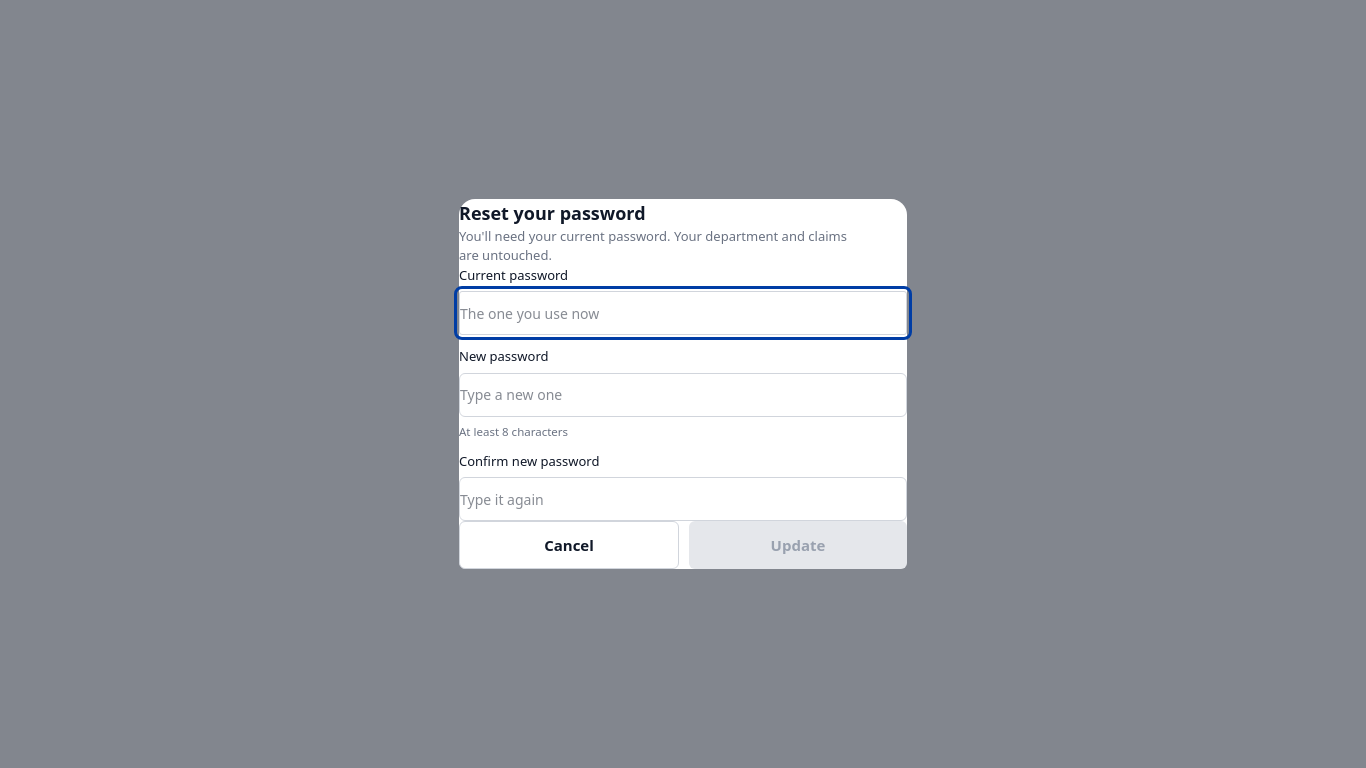
Scenario: password sheet › blocks submit while the confirmation does not match
The width and height of the screenshot is (1366, 768).
In the password field labelled "Current password": (683, 313) [459, 291, 907, 335], type "oldpassword"
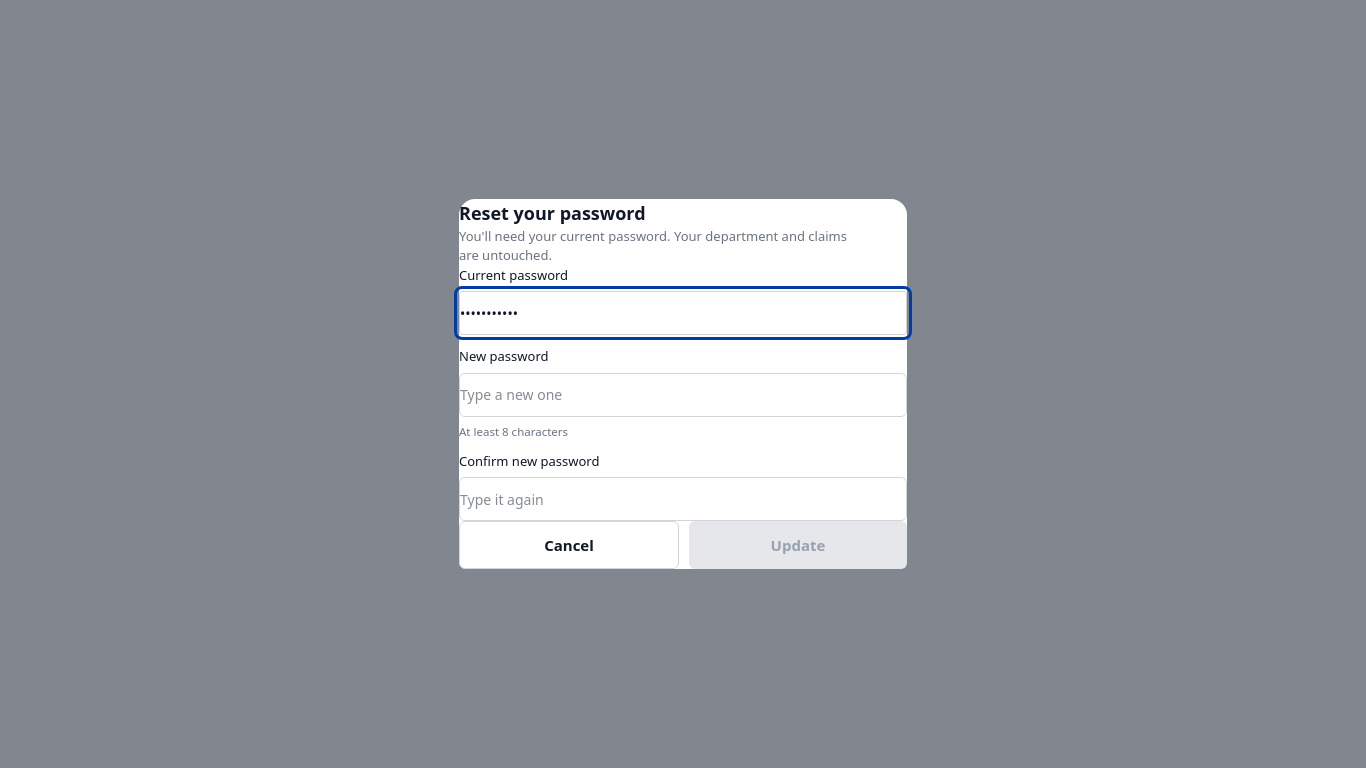
In the password field labelled "New password": (683, 395) [459, 373, 907, 417], type "longenough1"
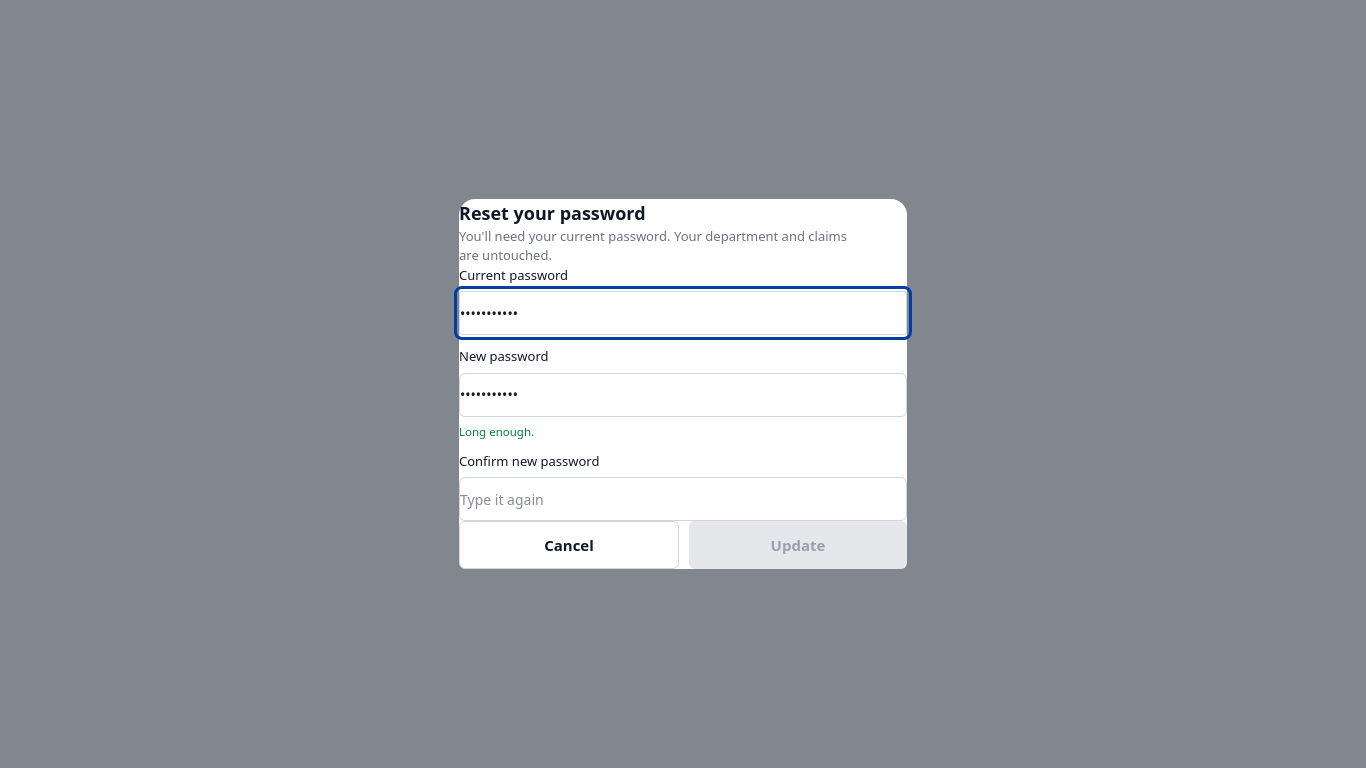
In the password field labelled "Confirm new password": (683, 499) [459, 477, 907, 521], type "longenough2"
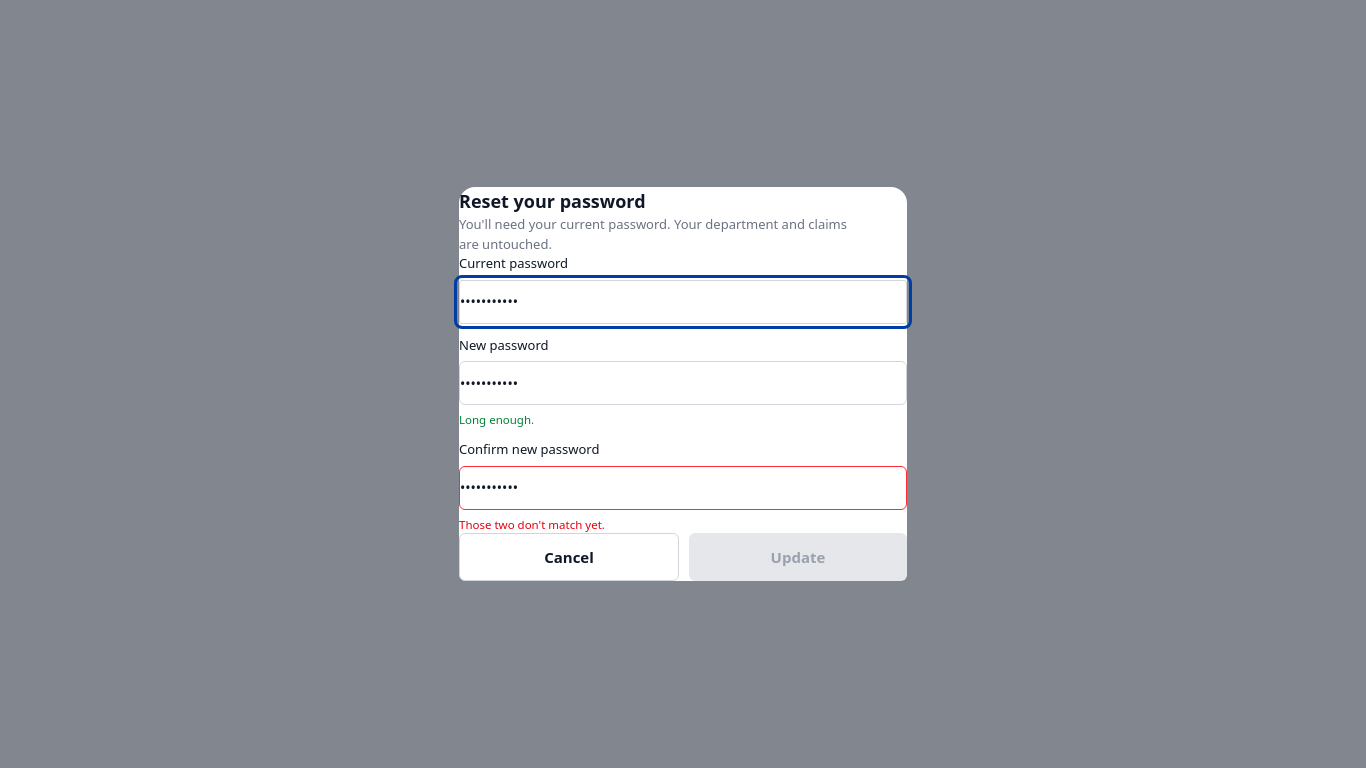
Check: the button "Update" is disabled, box [689, 533, 907, 581]
Check: the text "Those two don't match yet." is shown, box [459, 517, 605, 532]
